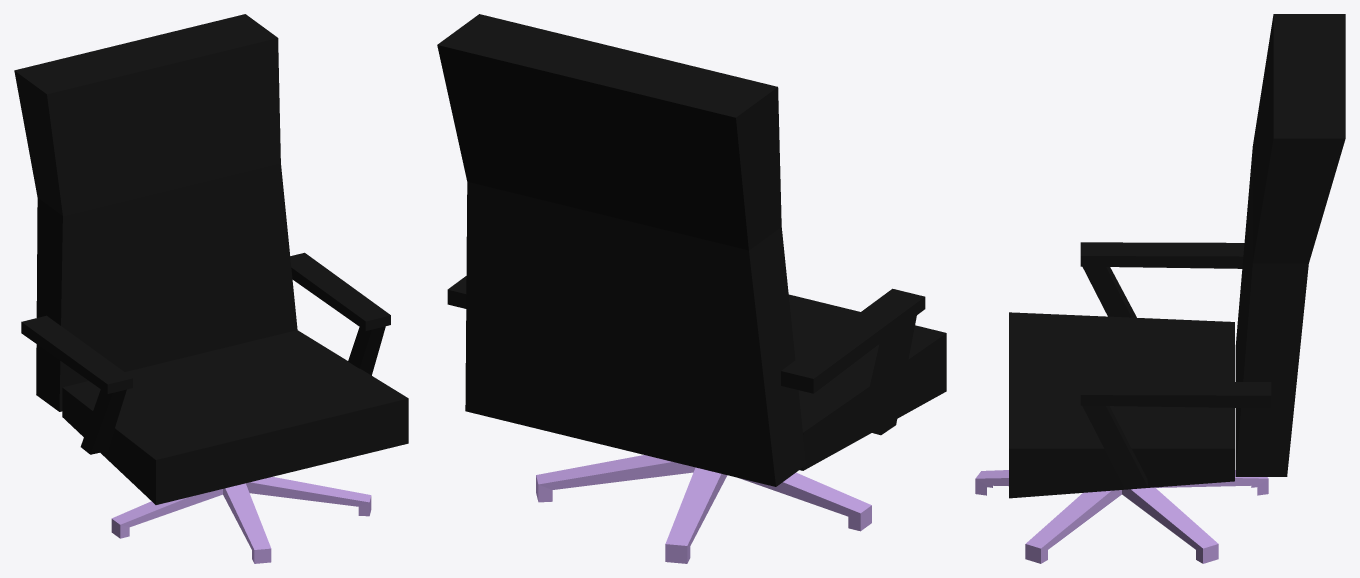
The model's file is model_Chair_CEO.fbx.
3 renders of one model, left to right at view 1: azimuth 30°, elevation 25°; view 2: azimuth 150°, elevation 25°; view 3: azimuth 270°, elevation 25°, orthographic. The views are drawn at different scales.
Parts seen in each view (by area): view 1: Chair_CEO; view 2: Chair_CEO; view 3: Chair_CEO.
Part boxes in pixels (x1,y1,x2,y2): Chair_CEO: (14,14,408,563); Chair_CEO: (437,14,946,563); Chair_CEO: (975,14,1345,563).
Bounding box in the file's own units: 10627 × 14016 × 10892.
